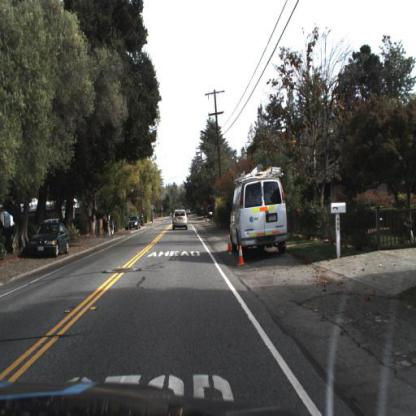car: (229, 162, 289, 263), (31, 217, 70, 259), (172, 207, 191, 232)
pedestrian: (110, 212, 115, 239), (103, 214, 108, 237), (107, 211, 111, 237)
truck: (229, 166, 288, 259)
